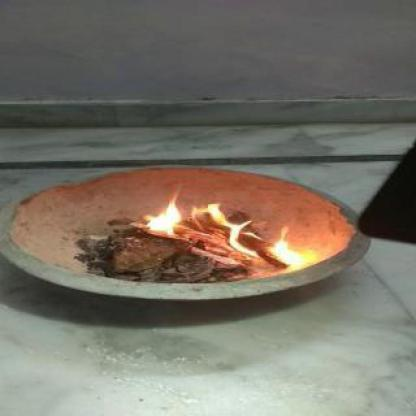fire: (130, 187, 190, 238), (199, 202, 252, 252), (266, 223, 312, 268)
